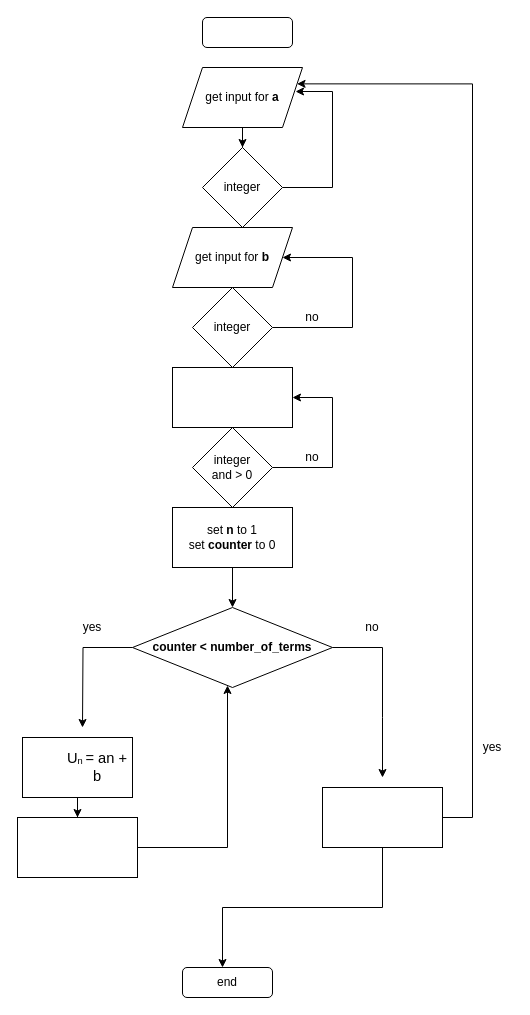
This 530x1015 diagram has some shape labels left out. Here are the shapes that lost their labels. From the top down, the box of each, then its label:
(202, 16, 292, 48): start
(172, 366, 292, 428): get input for number_of_terms
(322, 786, 442, 848): another sequence
(16, 816, 138, 878): counter ++ n++
